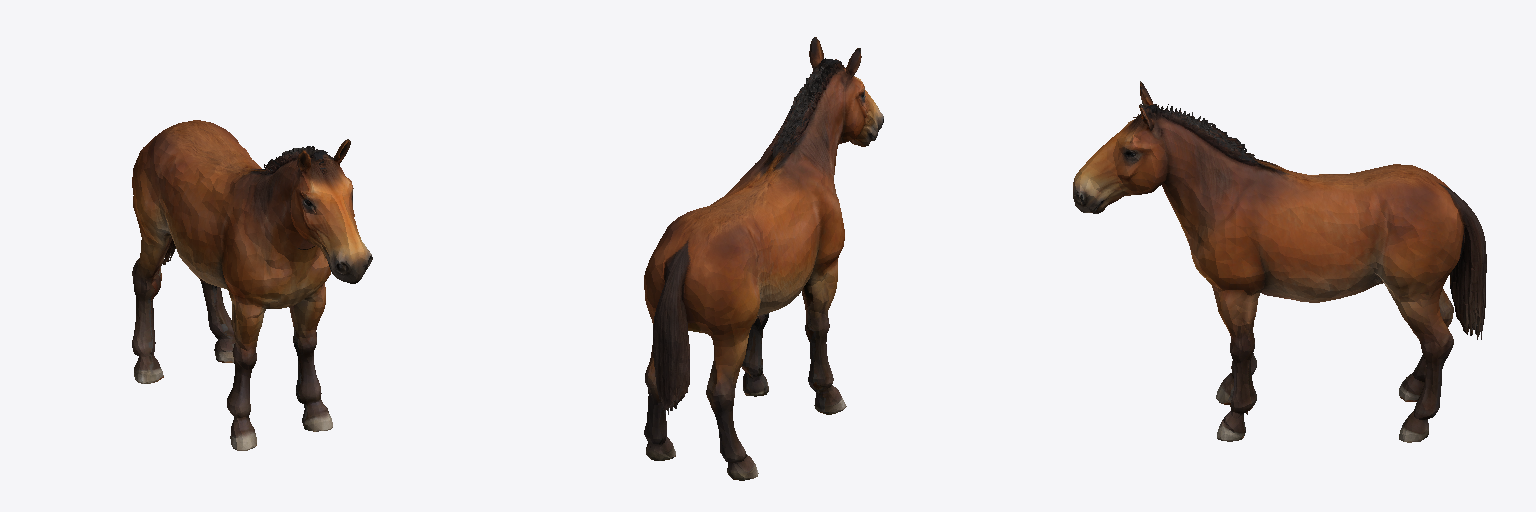
3 views of the same model, side by side, from view 1: azimuth 30°, elevation 25°; view 2: azimuth 150°, elevation 25°; view 3: azimuth 270°, elevation 25° (orthographic).
Visible parts, largest first — view 1: Eohippus_Revival_[number redacted]_texture; view 2: Eohippus_Revival_[number redacted]_texture; view 3: Eohippus_Revival_[number redacted]_texture.
Part boxes in pixels (x1,y1,x2,y2): Eohippus_Revival_[number redacted]_texture: (132,120,372,450); Eohippus_Revival_[number redacted]_texture: (644,37,883,480); Eohippus_Revival_[number redacted]_texture: (1073,81,1486,442).
Size of the model in its own units: 0.5999 by 1.74 by 1.99.
Materials: 1 (1 with a texture image).